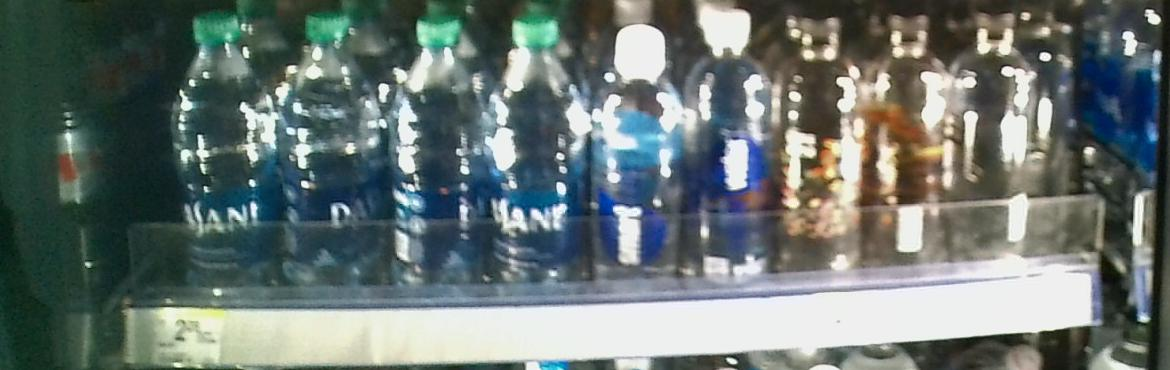bottle: (172, 7, 278, 301), (285, 11, 385, 303), (393, 14, 487, 303), (494, 13, 587, 301), (593, 22, 685, 300), (781, 11, 866, 304), (691, 15, 776, 302), (954, 7, 1042, 269), (875, 9, 949, 277)
